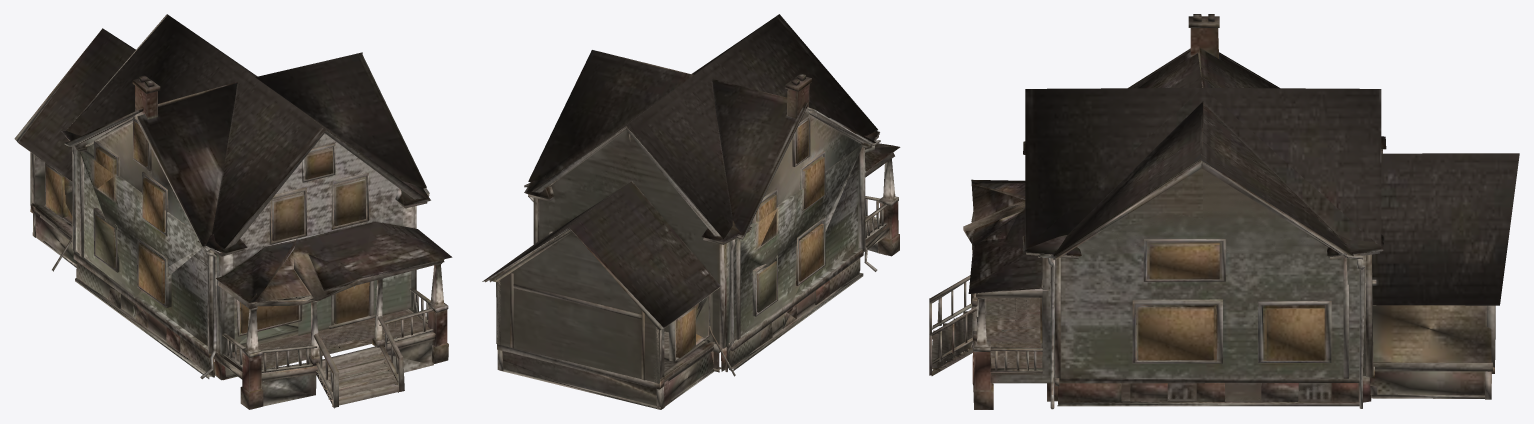
The model's file is boarded-house.glb.
3 renders of one model, left to right at view 1: azimuth 30°, elevation 25°; view 2: azimuth 150°, elevation 25°; view 3: azimuth 270°, elevation 25°, orthographic. The views are drawn at different scales.
Bounding box in the file's own units: 0.4805 × 0.5166 × 0.9536.
Materials: 1 (1 with a texture image).
